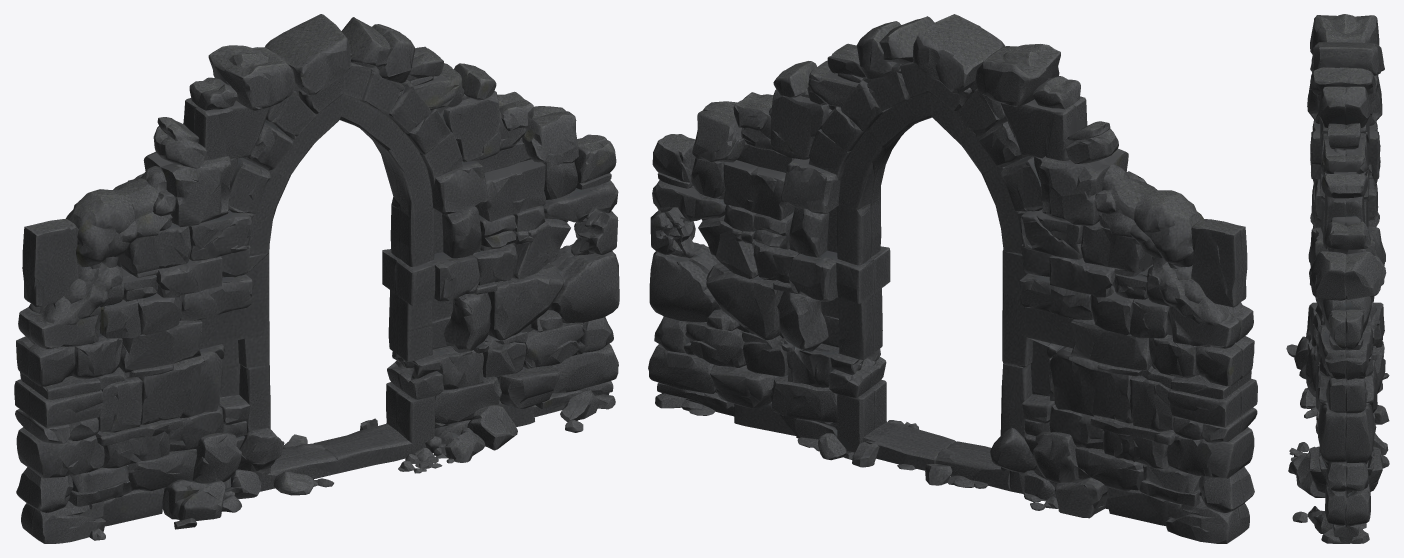
The model's file is Meshy_AI_Env_ruined_wall_01a0e98c_texture.glb.
3 renders of one model, left to right at view 1: azimuth 30°, elevation 25°; view 2: azimuth 150°, elevation 25°; view 3: azimuth 270°, elevation 25°, orthographic. The views are drawn at different scales.
Bounding box in the file's own units: 1.9 × 1.37 × 0.3347.
1 material, 1 textured.
